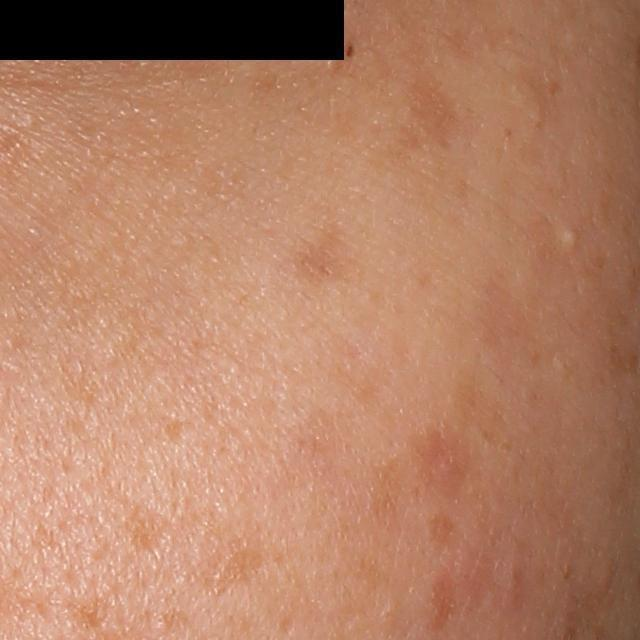comedo: (559, 219, 579, 250)
melasma: (369, 71, 464, 170), (292, 205, 354, 290), (195, 530, 271, 589), (358, 452, 403, 532), (125, 506, 168, 554)
nevus: (343, 41, 353, 59)
